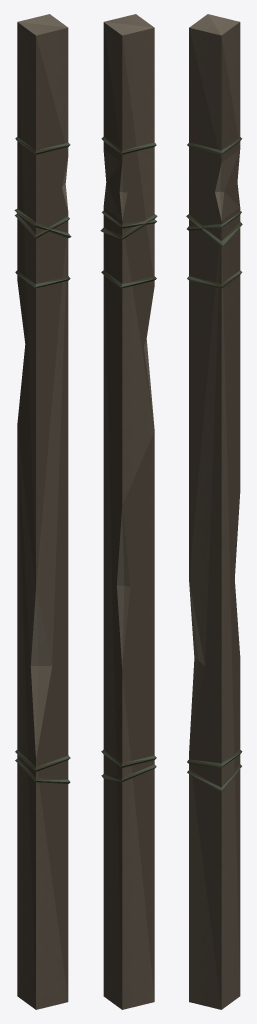
File: Wood_6.fbx
The picture shows the model from 3 angles, left to right: view 1: azimuth 30°, elevation 25°; view 2: azimuth 210°, elevation 25°; view 3: azimuth 330°, elevation 25°; orthographic projection.
Parts seen in each view (by area): view 1: polySurface1411; view 2: polySurface1411; view 3: polySurface1411.
Part boxes in pixels (x1,y1,x2,y2): polySurface1411: (14, 14, 71, 1009); polySurface1411: (100, 14, 157, 1009); polySurface1411: (186, 14, 242, 1009).
Size of the model in its own units: 0.3759 by 9.47 by 0.3597.
